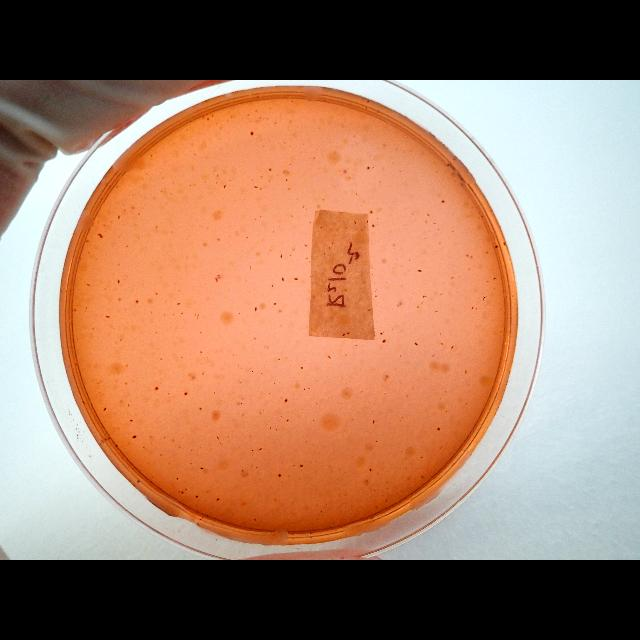colony: (202, 242, 208, 248), (133, 434, 137, 440), (382, 338, 386, 344), (327, 354, 331, 360), (290, 98, 294, 104), (130, 206, 136, 210), (258, 447, 264, 451), (437, 426, 441, 432), (372, 419, 376, 425), (450, 344, 454, 350), (255, 306, 258, 312), (255, 108, 258, 114), (278, 474, 282, 478), (216, 498, 220, 502), (114, 444, 118, 448), (104, 438, 108, 442), (154, 386, 158, 390), (106, 314, 110, 318), (250, 132, 254, 136), (367, 100, 371, 104), (441, 199, 445, 203), (502, 242, 506, 246), (268, 168, 272, 172), (254, 185, 258, 189), (414, 342, 418, 346), (217, 238, 221, 242), (102, 223, 106, 227), (96, 220, 100, 224), (256, 95, 260, 99), (258, 116, 262, 120), (268, 179, 272, 183), (118, 297, 122, 301), (150, 310, 154, 314), (119, 338, 123, 342), (124, 381, 128, 385), (98, 391, 102, 395), (198, 407, 202, 411), (284, 398, 288, 402), (286, 418, 290, 422), (299, 464, 303, 468), (368, 468, 372, 472), (374, 439, 378, 443), (465, 368, 467, 376), (440, 342, 444, 346), (102, 439, 105, 443), (446, 163, 449, 167), (494, 245, 498, 248), (304, 245, 308, 248), (370, 210, 374, 213), (366, 219, 369, 223), (282, 276, 284, 282), (224, 184, 226, 190), (426, 213, 429, 217), (125, 244, 128, 248), (308, 220, 312, 223), (176, 302, 182, 304), (172, 312, 175, 316), (192, 375, 195, 379), (185, 392, 188, 396), (125, 364, 128, 368), (300, 366, 304, 369), (200, 466, 203, 469), (254, 518, 256, 522), (196, 495, 198, 499), (181, 490, 183, 494), (177, 477, 179, 481), (217, 435, 219, 439), (172, 439, 174, 443), (100, 442, 102, 446), (130, 418, 132, 422), (104, 407, 106, 411), (128, 403, 130, 407), (74, 309, 76, 313), (118, 279, 120, 283), (86, 284, 90, 286), (118, 216, 120, 220), (150, 154, 154, 156), (471, 306, 473, 310), (418, 270, 422, 272), (374, 295, 378, 297), (368, 309, 372, 311), (354, 220, 356, 224), (294, 278, 298, 280), (272, 284, 274, 288), (280, 254, 282, 258), (286, 178, 288, 182), (368, 166, 370, 170), (435, 311, 439, 313), (380, 332, 382, 336), (342, 334, 346, 336), (274, 302, 276, 306), (216, 278, 218, 282), (344, 169, 346, 173), (217, 174, 219, 178), (229, 178, 231, 182), (290, 163, 292, 167), (320, 225, 322, 229), (331, 241, 333, 245), (322, 198, 326, 200), (288, 187, 290, 191), (260, 187, 262, 191), (172, 180, 174, 184), (110, 220, 112, 224), (85, 306, 87, 310), (84, 310, 88, 312), (136, 300, 138, 304), (163, 312, 165, 316), (178, 288, 180, 292), (156, 292, 158, 296), (197, 316, 199, 320), (200, 330, 202, 334), (213, 391, 215, 395), (92, 327, 94, 331), (96, 382, 100, 384), (264, 344, 266, 348), (292, 376, 294, 380), (304, 387, 306, 391), (241, 402, 243, 406), (235, 434, 237, 438), (252, 448, 254, 452), (270, 426, 272, 430), (275, 428, 277, 432), (316, 402, 318, 406), (242, 468, 244, 472), (200, 518, 202, 522), (198, 521, 200, 525), (377, 472, 379, 476), (373, 488, 375, 492), (372, 272, 374, 276), (371, 266, 373, 270), (408, 259, 410, 263), (433, 222, 437, 224), (452, 229, 454, 233), (258, 472, 260, 476), (258, 478, 260, 482), (287, 474, 289, 478), (274, 498, 276, 502), (253, 504, 255, 508), (190, 450, 193, 452), (108, 436, 110, 439), (85, 240, 88, 242), (138, 212, 140, 215), (207, 118, 210, 120), (247, 114, 250, 116), (466, 255, 468, 258), (372, 225, 374, 228), (441, 293, 444, 295), (272, 230, 274, 233), (291, 215, 293, 218), (372, 167, 374, 170), (356, 192, 358, 195), (160, 190, 163, 192), (260, 175, 262, 178), (115, 185, 118, 187), (180, 312, 183, 314), (200, 351, 202, 354), (250, 366, 252, 369), (257, 386, 259, 389), (292, 411, 294, 414), (308, 386, 310, 389), (386, 486, 388, 489), (421, 302, 424, 304), (416, 306, 419, 308), (320, 510, 322, 512), (325, 503, 327, 505), (316, 504, 318, 506), (323, 484, 325, 486), (319, 493, 321, 495), (298, 478, 300, 480), (185, 488, 187, 490), (179, 490, 181, 492), (179, 446, 181, 448), (164, 436, 166, 438), (143, 446, 145, 448), (98, 234, 100, 236), (100, 235, 102, 237), (155, 226, 157, 228), (194, 154, 196, 156), (212, 115, 214, 117), (216, 122, 218, 124), (481, 215, 483, 217), (486, 252, 488, 254), (494, 278, 496, 280), (487, 280, 489, 282), (475, 308, 477, 310), (323, 252, 325, 254), (289, 255, 291, 257), (423, 296, 425, 298), (392, 309, 394, 311), (347, 332, 349, 334), (238, 312, 240, 314), (246, 236, 248, 238), (260, 215, 262, 217), (254, 219, 256, 221), (302, 206, 304, 208), (306, 208, 308, 210), (213, 170, 215, 172), (216, 182, 218, 184), (190, 184, 192, 186), (197, 314, 199, 316), (194, 314, 196, 316), (181, 356, 183, 358), (160, 358, 162, 360), (251, 370, 253, 372), (261, 373, 263, 375), (273, 383, 275, 385), (265, 380, 267, 382), (226, 403, 228, 405), (280, 416, 282, 418), (283, 410, 285, 412), (313, 420, 315, 422), (269, 393, 271, 395), (202, 517, 204, 519), (421, 456, 423, 458), (440, 333, 442, 335), (401, 284, 403, 286), (256, 466, 258, 468), (293, 465, 295, 467), (300, 469, 302, 471), (328, 247, 329, 250), (328, 502, 329, 504), (507, 317, 508, 319), (346, 494, 346, 496), (298, 477, 298, 479), (274, 422, 274, 426), (440, 334, 440, 336), (252, 465, 252, 467), (278, 468, 278, 470), (298, 461, 298, 463)
